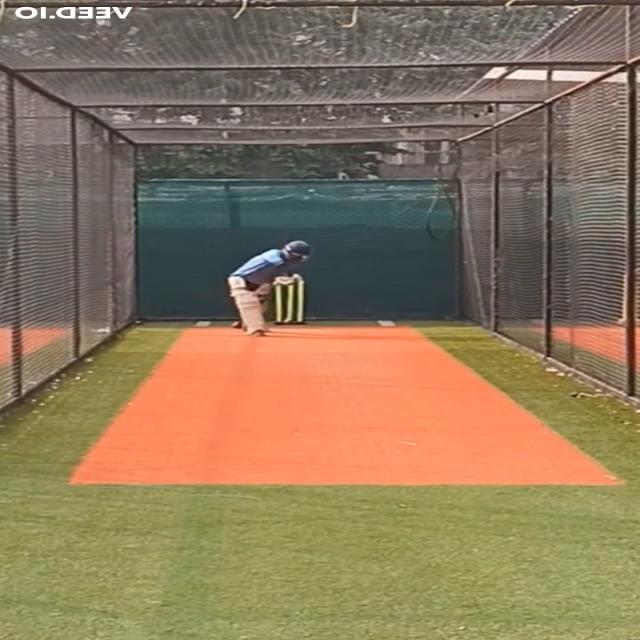ball: (283, 319, 292, 324)
stump: (274, 280, 304, 325)
